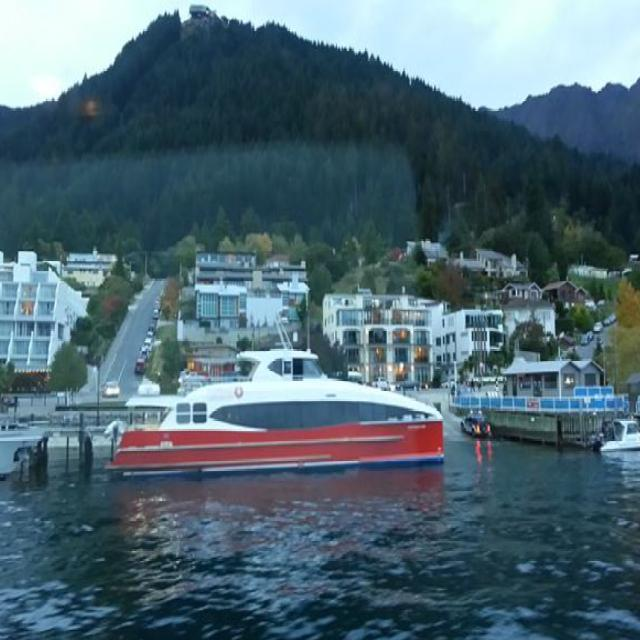houseboat: (112, 340, 461, 478)
